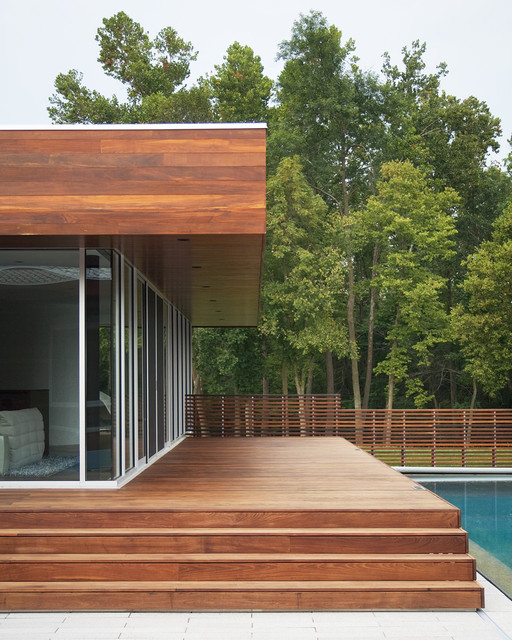upstairs: (1, 500, 452, 624)
